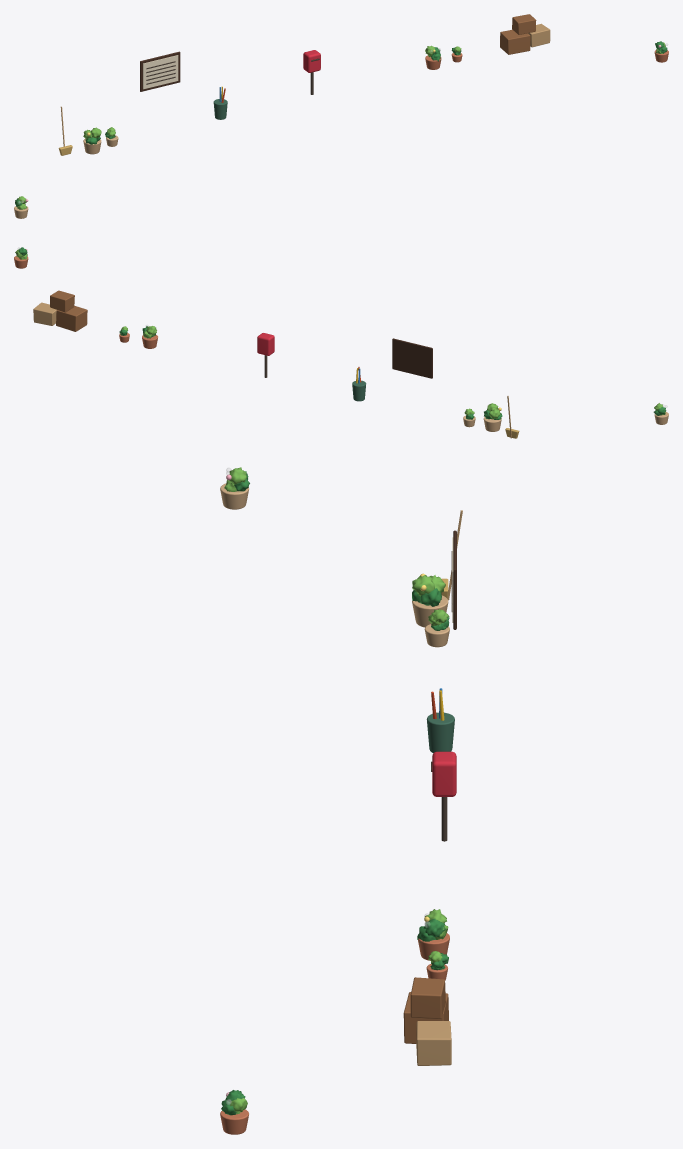
Rendered from station_props.glb.
The picture shows the model from 3 angles, top to bottom: view 1: azimuth 30°, elevation 25°; view 2: azimuth 150°, elevation 25°; view 3: azimuth 270°, elevation 25°; orthographic projection. The views are drawn at different scales.
Parts seen in each view (by area): view 1: timetable_paper, crate, crate.002, timetable, crate.001, mailbox; view 2: timetable, crate, crate.001, crate.002, mailbox; view 3: crate.001, crate.002, mailbox, umbrella_stand.
Boxes of the visible parts, x1,y1,x2,y2 form: timetable_paper: (143,55,178,89); crate: (500,29,530,54); crate.002: (512,14,536,34); timetable: (140,51,180,91); crate.001: (528,23,550,47); mailbox: (303,50,320,72); timetable: (392,338,432,378); crate: (56,305,87,331); crate.001: (33,302,56,325); crate.002: (50,290,74,312); mailbox: (257,333,274,355); crate.001: (416,1021,451,1065); crate.002: (410,977,445,1018); mailbox: (432,751,456,796); umbrella_stand: (426,712,454,752).
Bounding box in the file's own units: 21.21 × 2.26 × 3.41.
